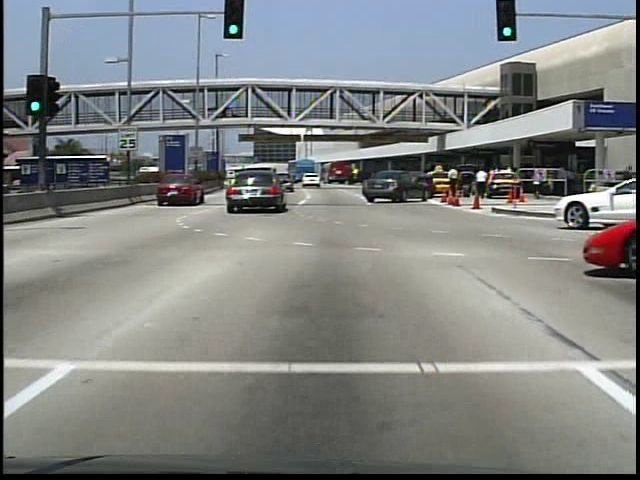person: (446, 166, 463, 204), (471, 168, 488, 202), (528, 167, 543, 201), (219, 101, 228, 120)
